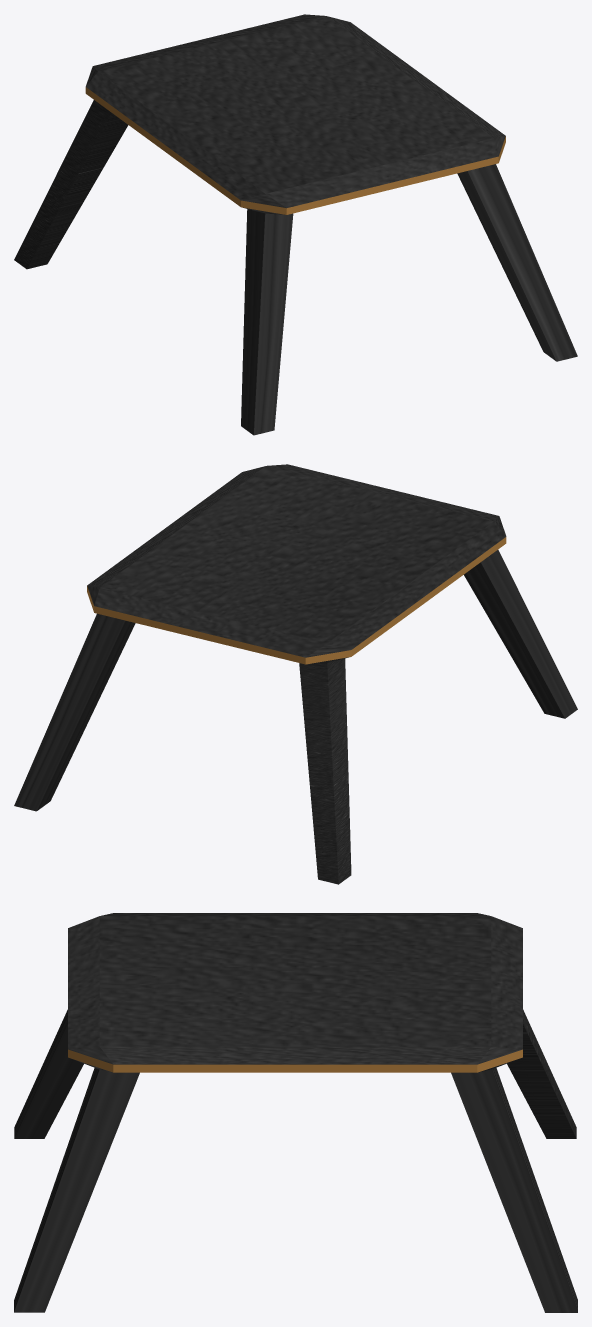
Rendered from CofeeTable.fbx.
3 renders of one model, top to bottom at view 1: azimuth 30°, elevation 25°; view 2: azimuth 150°, elevation 25°; view 3: azimuth 270°, elevation 25°, orthographic. The views are drawn at different scales.
Parts seen in each view (by area): view 1: Cube; view 2: Cube; view 3: Cube.
Part boxes in pixels (x1,y1,x2,y2): Cube: (14, 14, 577, 435); Cube: (14, 464, 577, 884); Cube: (14, 913, 577, 1312).
Bounding box in the file's own units: 114 × 68.16 × 146.
